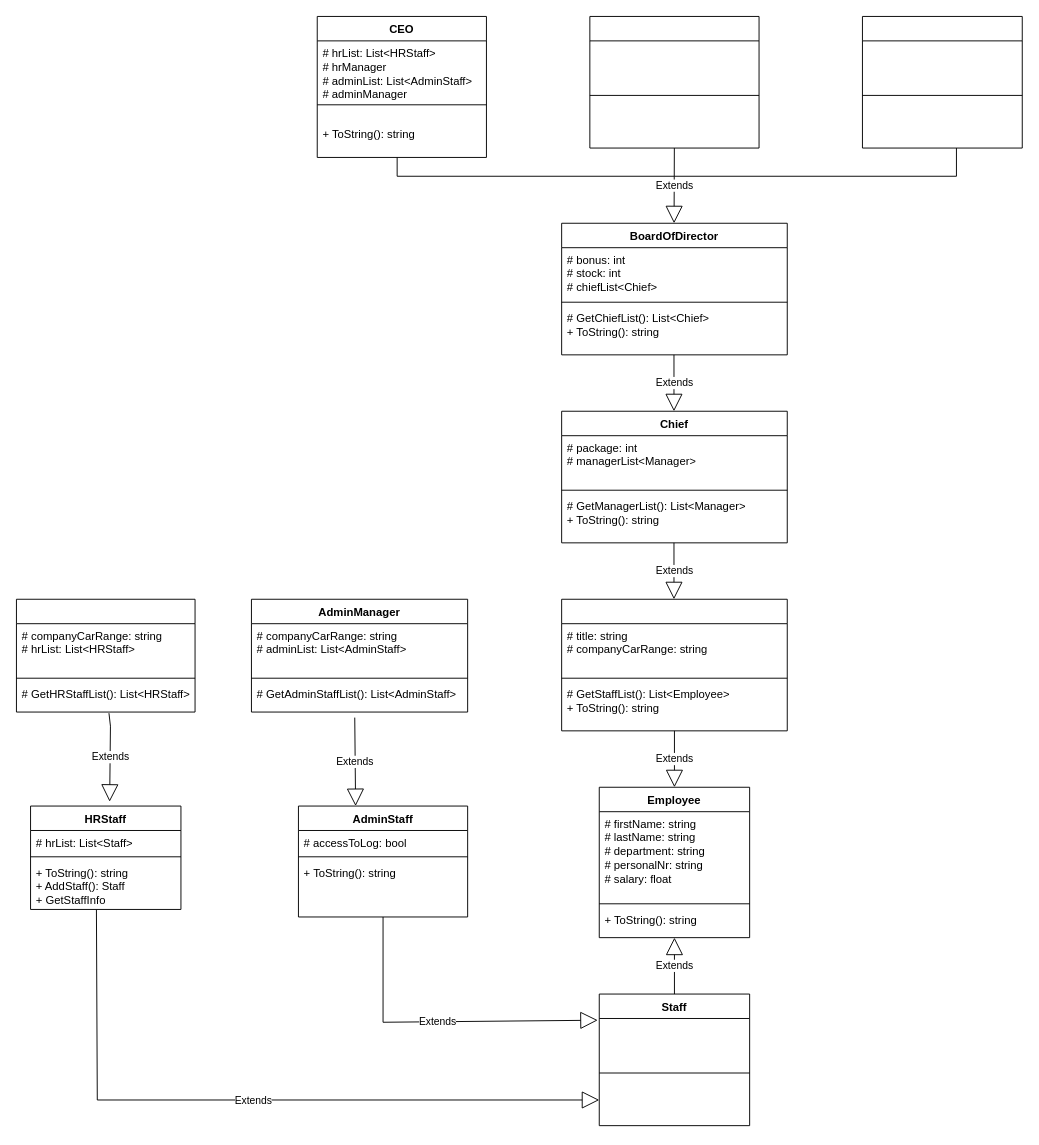
This 1039x1145 diagram has some shape labels left out. Each missing label, with the box of its shape:
CFO: (862, 16, 1022, 148)
COO: (589, 16, 759, 148)
HRManager: (16, 598, 195, 712)
Manager: (561, 598, 787, 731)
